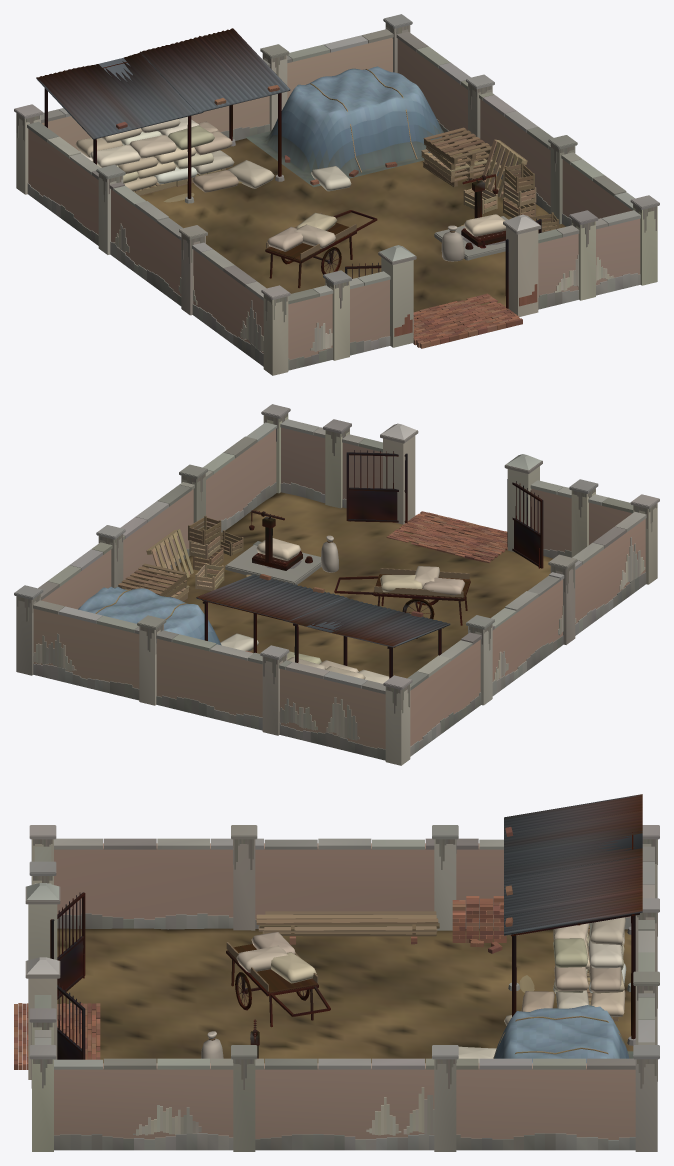
File: goods_yard.glb
The picture shows the model from 3 angles, top to bottom: view 1: azimuth 30°, elevation 25°; view 2: azimuth 150°, elevation 25°; view 3: azimuth 270°, elevation 25°; orthographic projection. The views are drawn at different scales.
Visible parts, largest first — view 1: goods_yard_hb_main, goods_yard_hb_brick, goods_yard_hb_tin, goods_yard_hb_thatch, goods_yard_hb_jute, goods_yard_hb_wood, goods_yard_hb_metal; view 2: goods_yard_hb_main, goods_yard_hb_brick, goods_yard_hb_tin, goods_yard_hb_metal, goods_yard_hb_wood, goods_yard_hb_jute, goods_yard_hb_thatch; view 3: goods_yard_hb_main, goods_yard_hb_brick, goods_yard_hb_tin, goods_yard_hb_jute, goods_yard_hb_metal, goods_yard_hb_wood, goods_yard_hb_thatch.
Boxes of the visible parts, x1,y1,x2,y2 form: goods_yard_hb_main: [14, 14, 659, 375]; goods_yard_hb_brick: [28, 37, 640, 359]; goods_yard_hb_tin: [36, 28, 290, 139]; goods_yard_hb_thatch: [245, 66, 443, 187]; goods_yard_hb_jute: [75, 117, 505, 261]; goods_yard_hb_wood: [134, 127, 558, 260]; goods_yard_hb_metal: [44, 62, 541, 308]; goods_yard_hb_main: [14, 404, 659, 765]; goods_yard_hb_brick: [33, 427, 645, 749]; goods_yard_hb_tin: [196, 574, 450, 647]; goods_yard_hb_metal: [202, 450, 543, 678]; goods_yard_hb_wood: [118, 515, 470, 601]; goods_yard_hb_jute: [220, 535, 464, 683]; goods_yard_hb_thatch: [78, 586, 221, 645]; goods_yard_hb_main: [14, 825, 659, 1151]; goods_yard_hb_brick: [54, 843, 635, 1139]; goods_yard_hb_tin: [504, 794, 642, 935]; goods_yard_hb_jute: [201, 917, 626, 1063]; goods_yard_hb_metal: [50, 832, 639, 1059]; goods_yard_hb_wood: [226, 911, 618, 1021]; goods_yard_hb_thatch: [493, 1005, 633, 1063].
Bounding box in the file's own units: 9.46 × 2.71 × 11.17.
